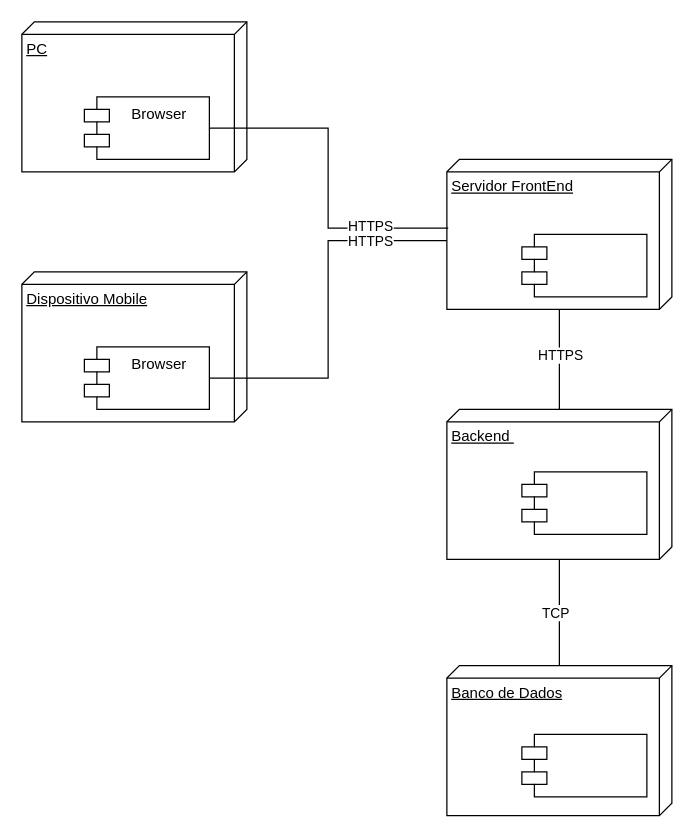
Image size: 694x838. Some labels were removed from this diagram. The centre of each missing label's shape, as x and y in pixels:
NEST: the point at 584,502
PostgreSQL: the point at 584,765
React: the point at 584,265
